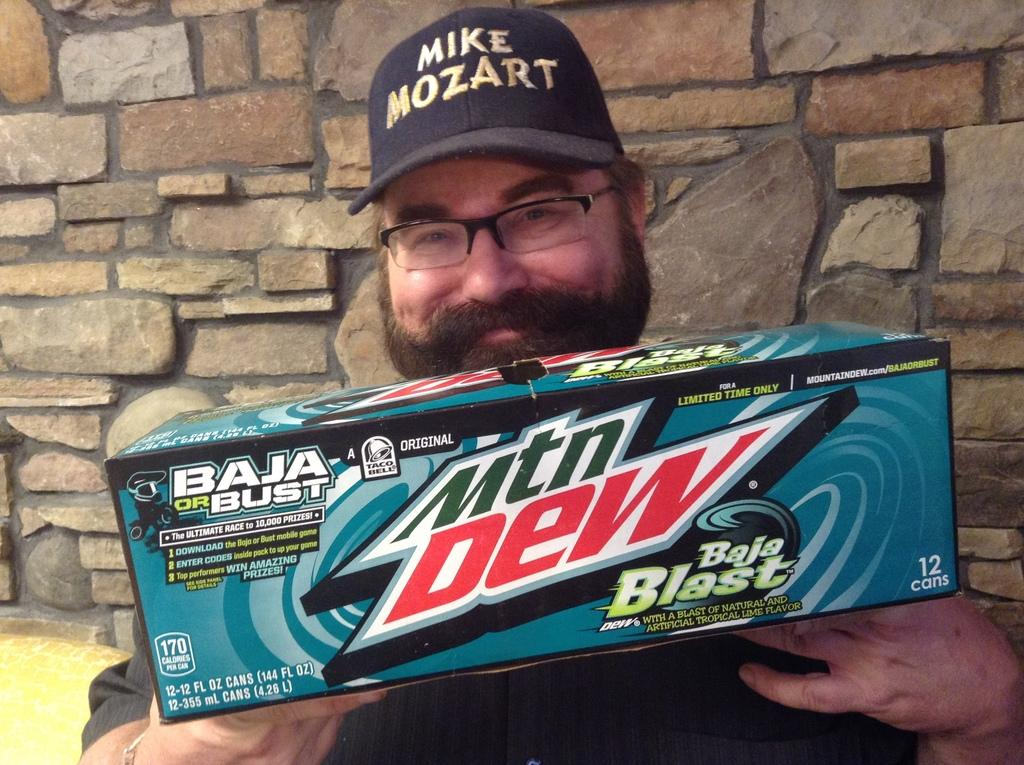Hat: (346, 7, 624, 216)
